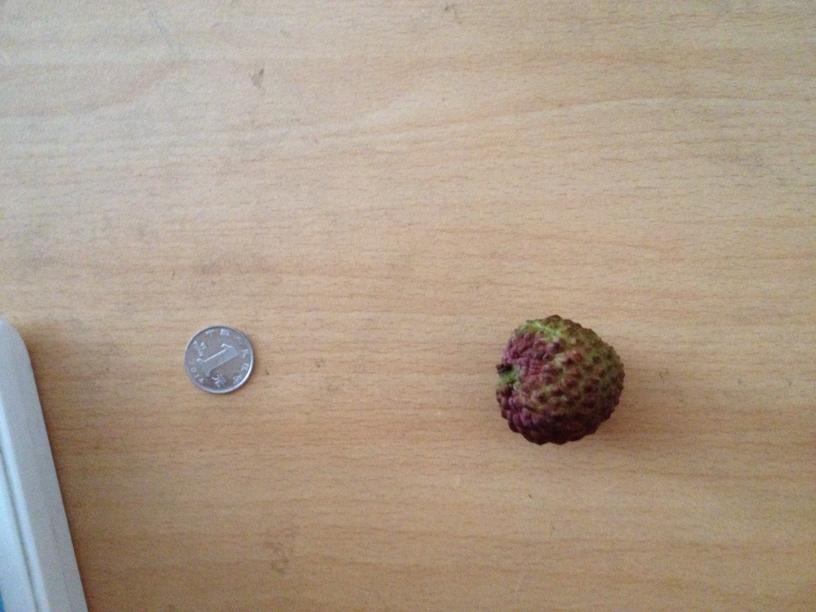coin: (185, 326, 255, 395)
litchi: (493, 320, 625, 447)
